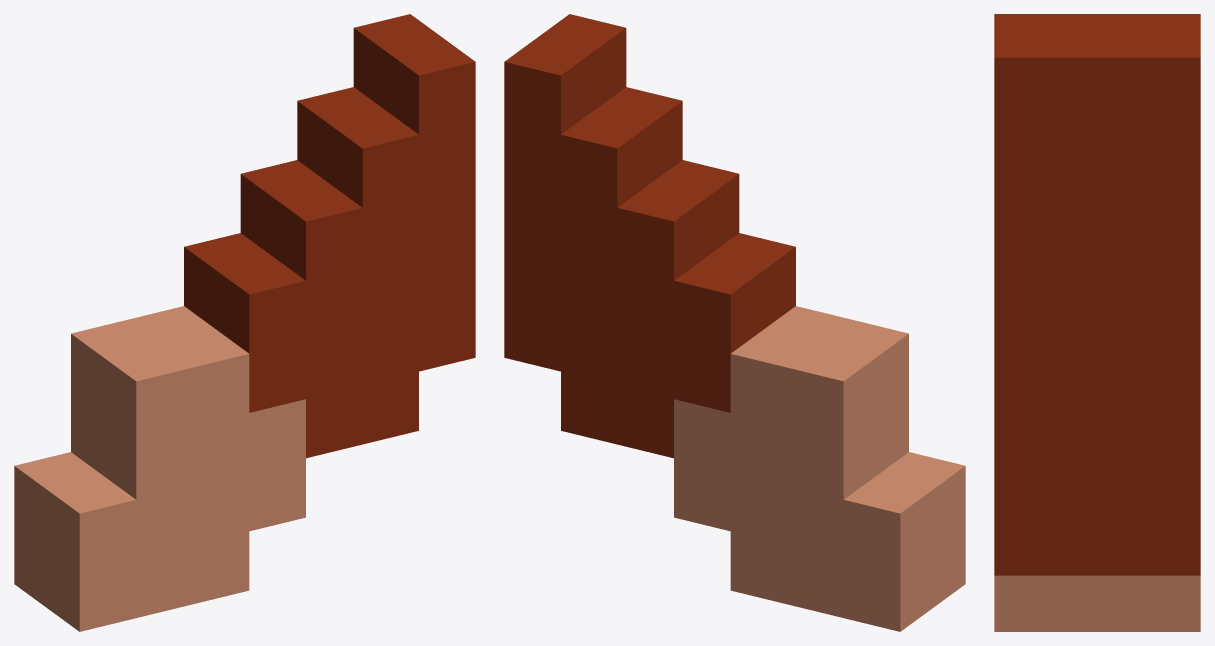
Rendered from league-admin-4.obj.
The picture shows the model from 3 angles, left to right: view 1: azimuth 30°, elevation 25°; view 2: azimuth 150°, elevation 25°; view 3: azimuth 270°, elevation 25°; orthographic projection. The views are drawn at different scales.
Bounding box in the file's own units: 0.7 × 0.8 × 0.2.
1 material, 1 textured.
